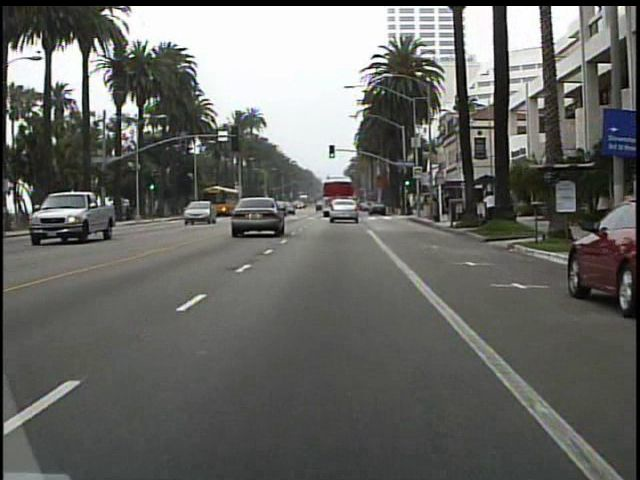person: (482, 190, 499, 226)
